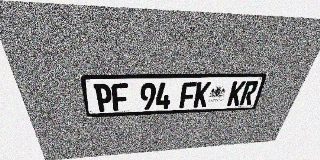4: (155, 82, 172, 109)
9: (140, 83, 156, 110)
F: (111, 83, 129, 111), (179, 82, 197, 108)
K: (226, 81, 246, 106), (193, 82, 211, 107)
P: (93, 83, 113, 112)
R: (239, 81, 259, 105)
